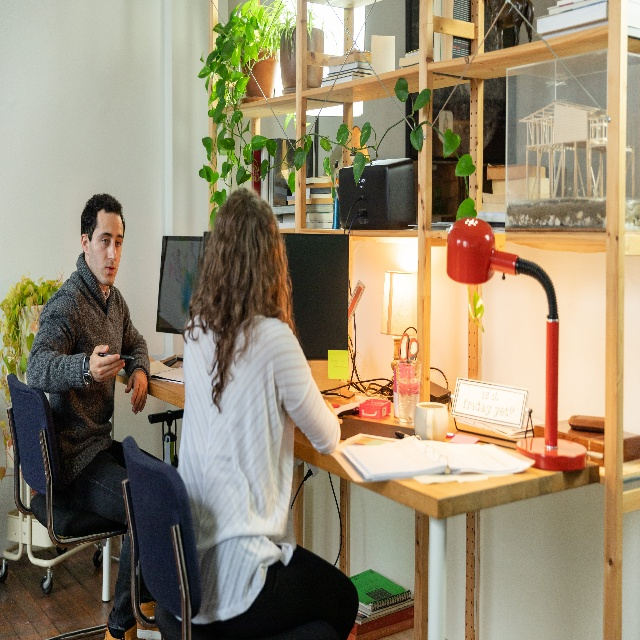Sin_guantes: (89, 343, 125, 383), (124, 369, 149, 415)
